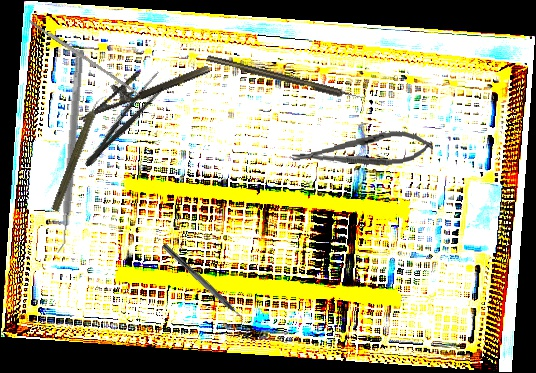Chopper: (156, 243, 251, 330)
Dressing Forceps: (79, 69, 171, 173)
Handpiece: (49, 91, 108, 214)
Hook Surgical: (206, 53, 364, 104)
Needle Holder: (73, 47, 211, 123), (290, 126, 435, 175)
Scalpel Handle: (27, 18, 142, 97)
Spatula Surgical: (51, 48, 85, 254)
